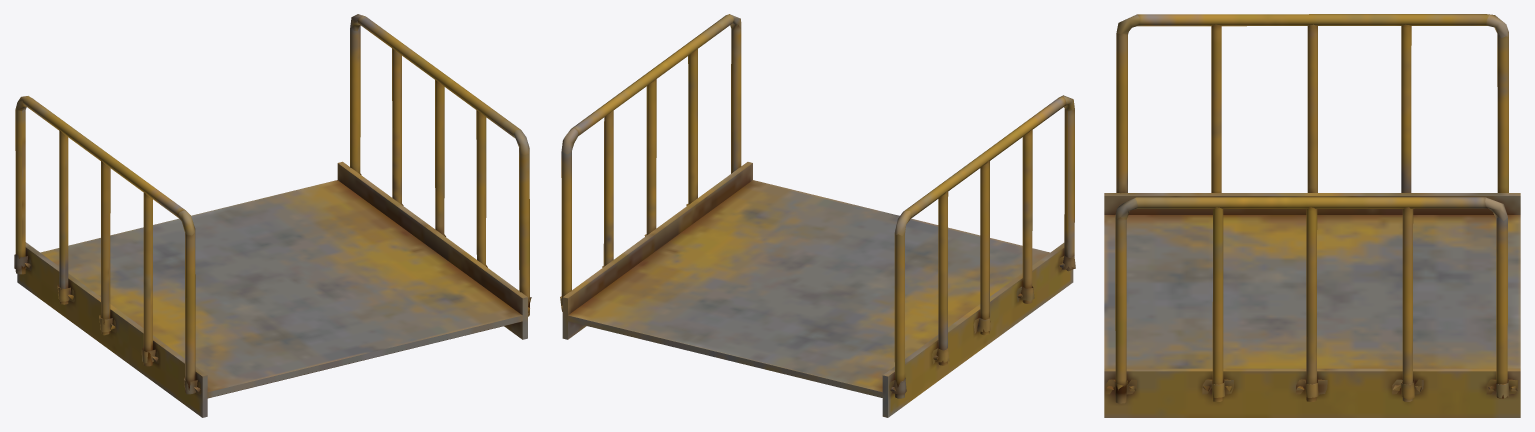
File: SM_Bridge01.gltf
3 renders of one model, left to right at view 1: azimuth 30°, elevation 25°; view 2: azimuth 150°, elevation 25°; view 3: azimuth 270°, elevation 25°, orthographic. The views are drawn at different scales.
Parts seen in each view (by area): view 1: SM_Bridge01; view 2: SM_Bridge01; view 3: SM_Bridge01.
Boxes of the visible parts, left/top/right/bottom form: SM_Bridge01: left=14, top=14, right=531, bottom=417; SM_Bridge01: left=560, top=14, right=1075, bottom=417; SM_Bridge01: left=1104, top=14, right=1520, bottom=417.
Bounding box in the file's own units: 2.19 × 1.2 × 2.04.
Materials: 1 (1 with a texture image).
